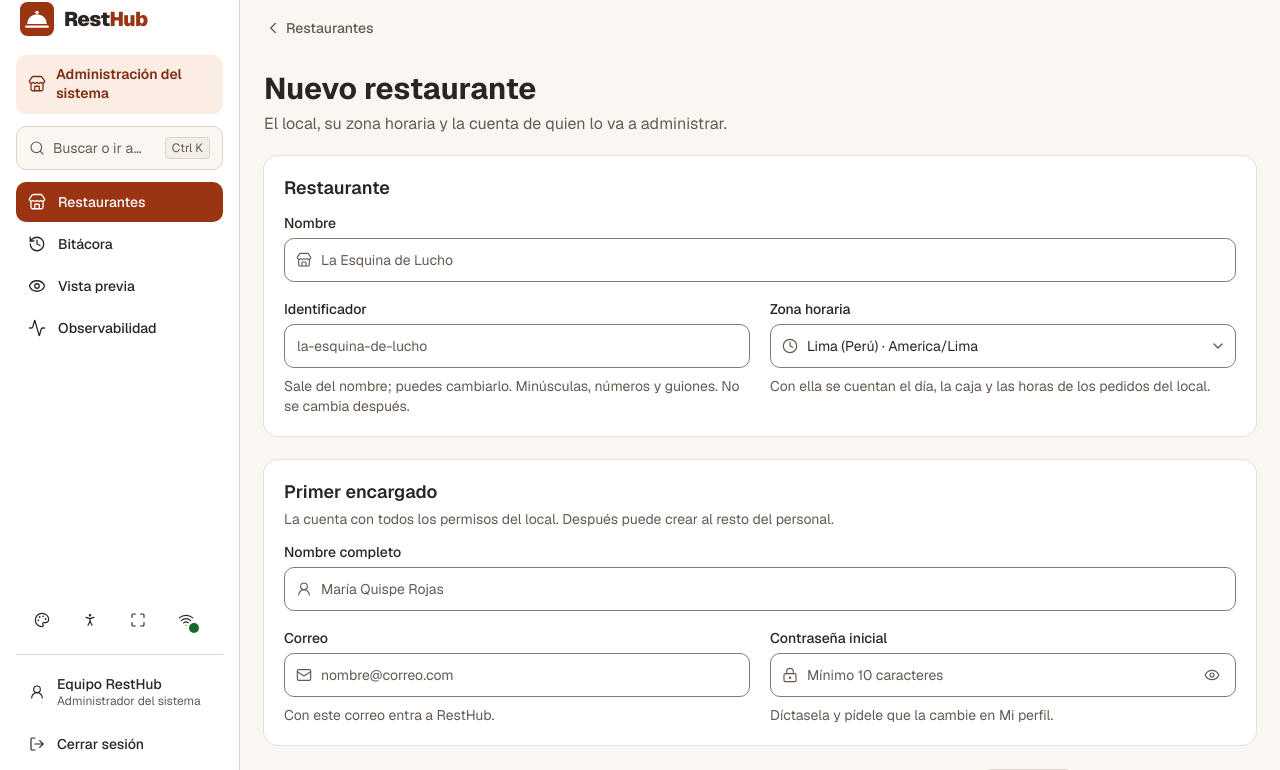
it: NewRestaurantView › sugiere el identificador desde el nombre y crea el local con su encargado
The image size is (1280, 770).
Type "Café Ñandú" into the field labelled "Nombre". click: (760, 260)
box: [284,238,1236,282]
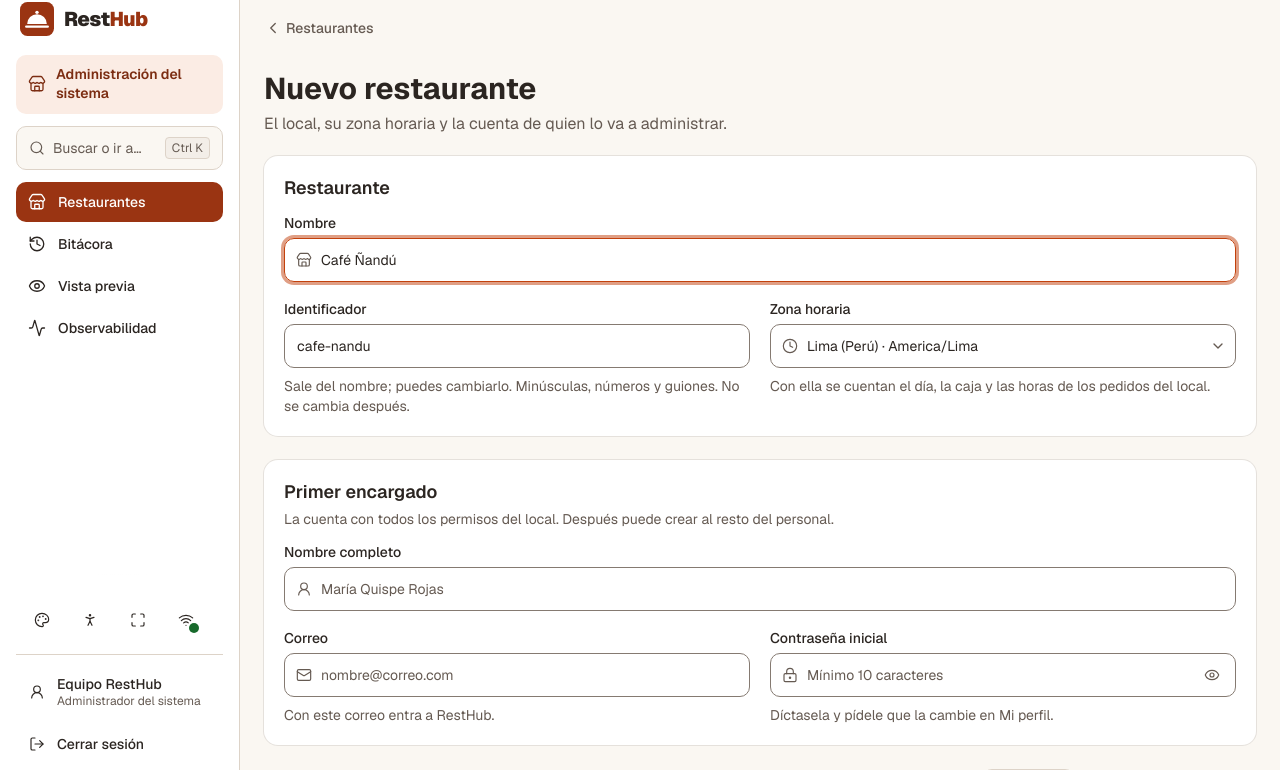
Type "Rosa Díaz" into the field labelled "Nombre completo". click: (760, 589)
box: [284,567,1236,611]
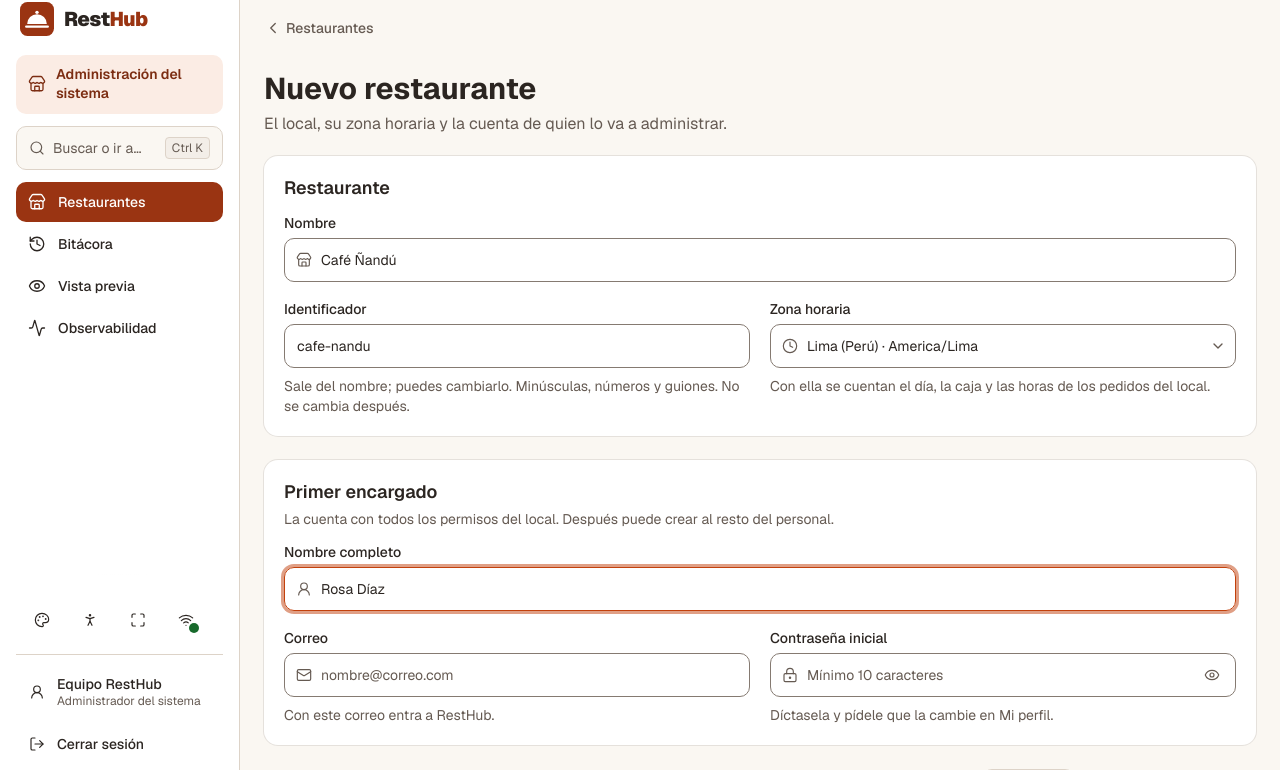
Type "rosa@nandu.pe" into the field labelled "Correo". click: (517, 675)
box: [284,653,750,697]
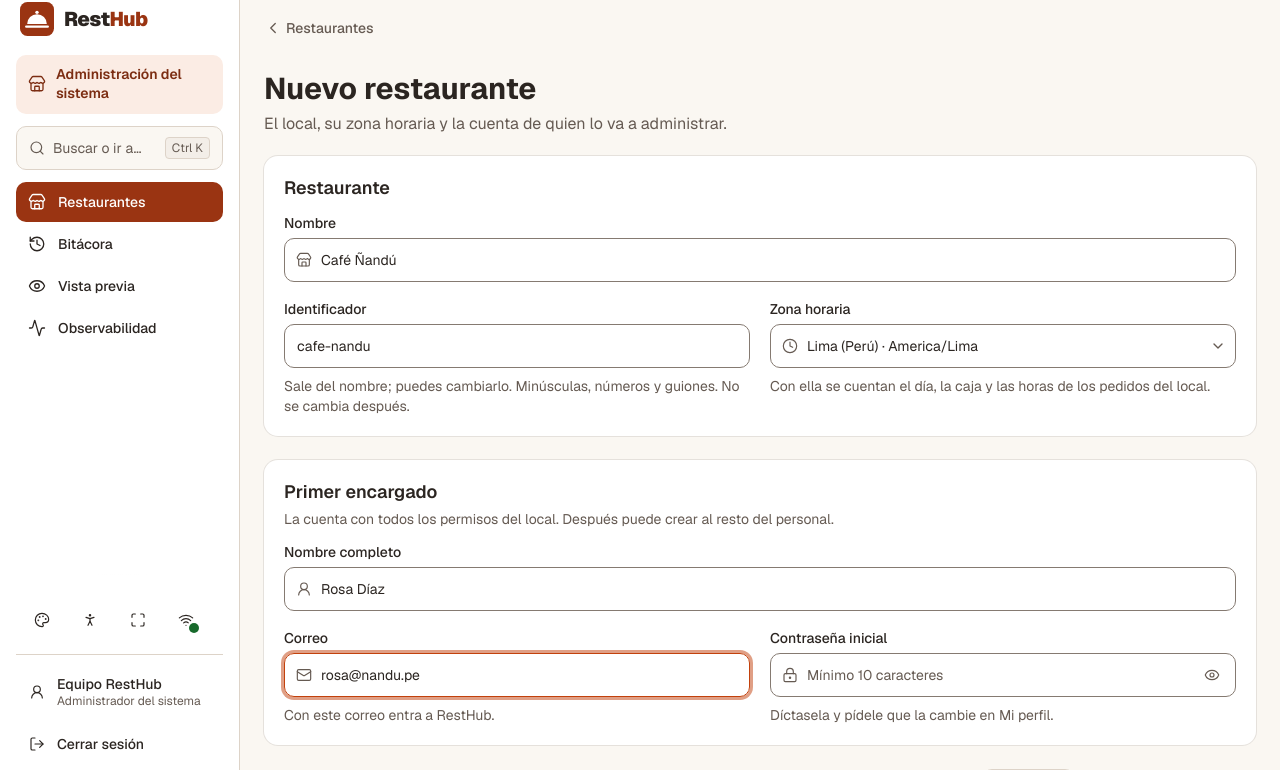
Type "clave-segura-1" into the password field labelled "Contraseña inicial". click: (1003, 675)
box: [770,653,1236,697]
(page scrolled)
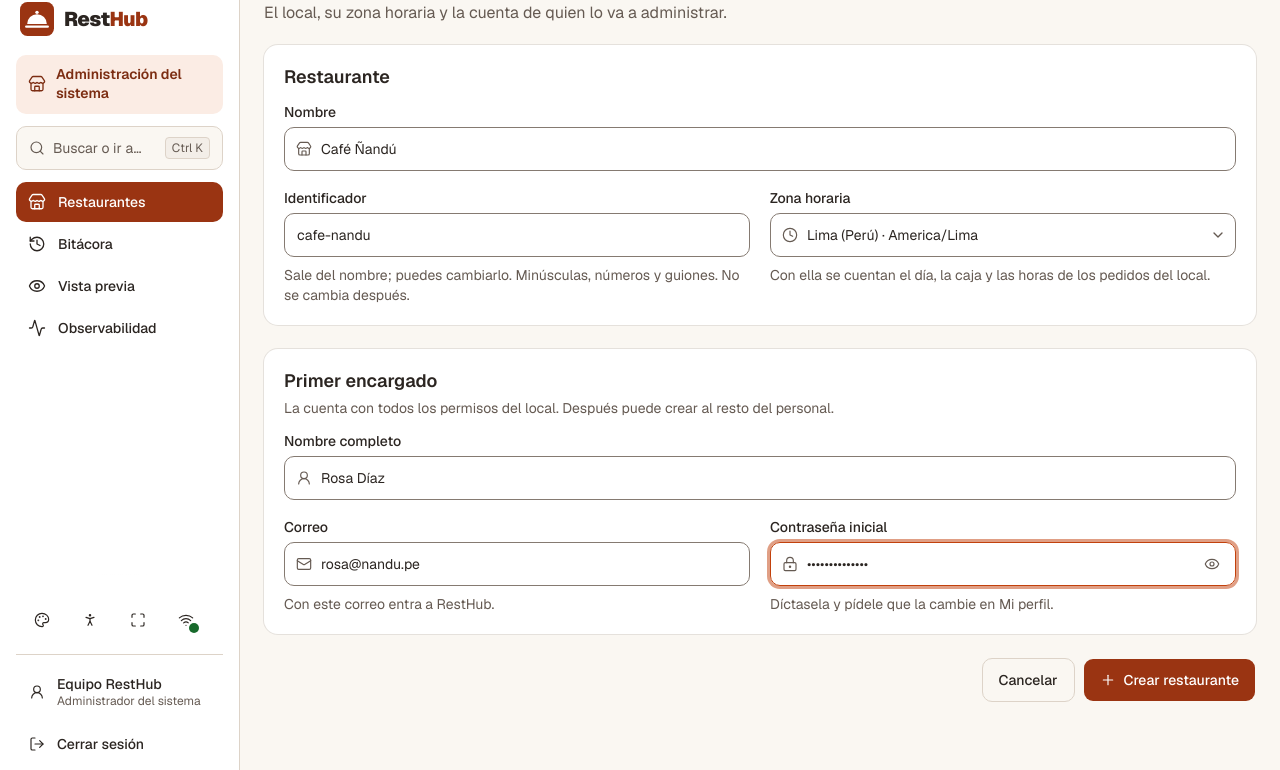
Expected: the field labelled "Identificador" holds "cafe-nandu", [284,213,750,257]
Click the button "Crear restaurante". click: click(1169, 680)
box: [1082,658,1256,702]
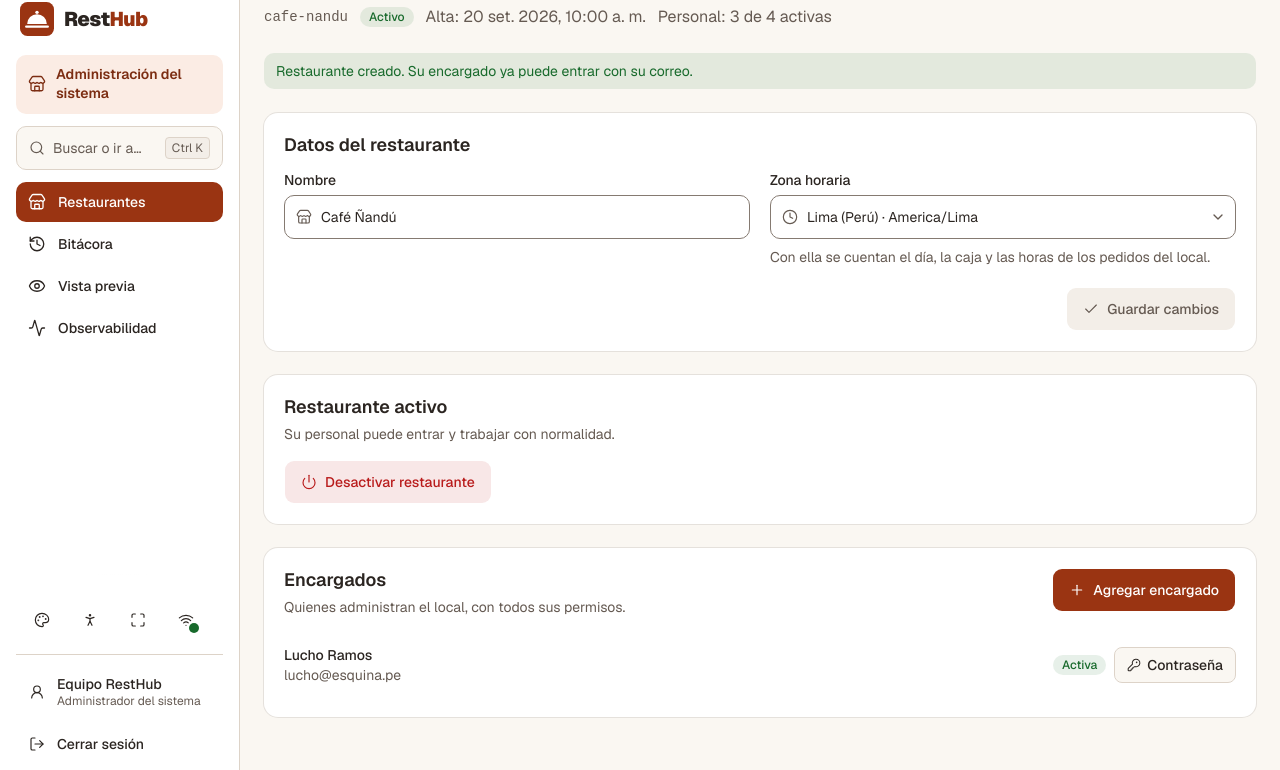
Expected: the text "Restaurante creado. Su encargado ya puede entrar con su correo." is shown, [264,52,1256,88]
